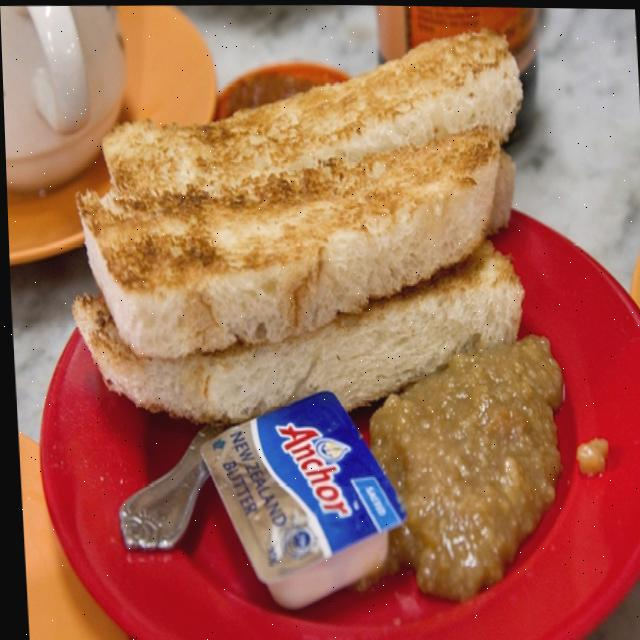面包点心: (28, 7, 640, 640)
